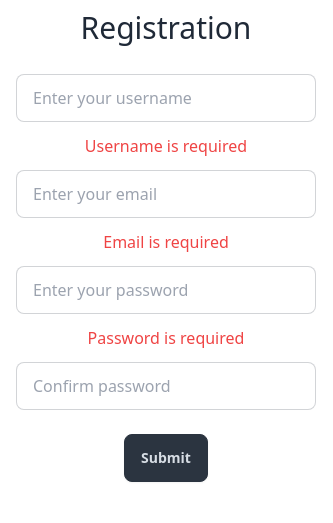
Test: Registration Form test suite › checks if confirm password is empty
Clear the password field with id "confirm-password" at (166, 386), box [16,362,316,410]
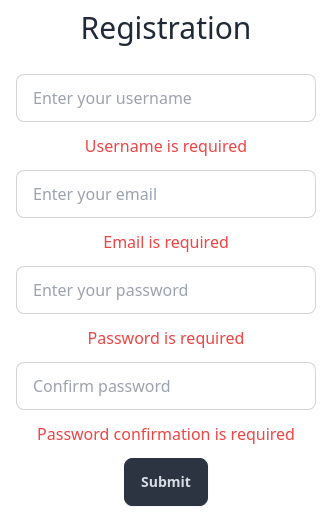
Expected: the text with id "confirm-password-validation-error" reads "Password confirmation is required", [37,423,295,445]
